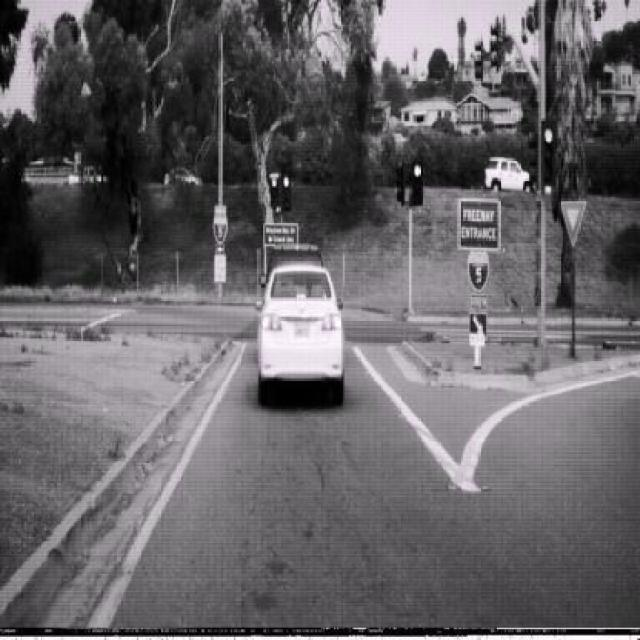yield: (558, 199, 587, 246)
